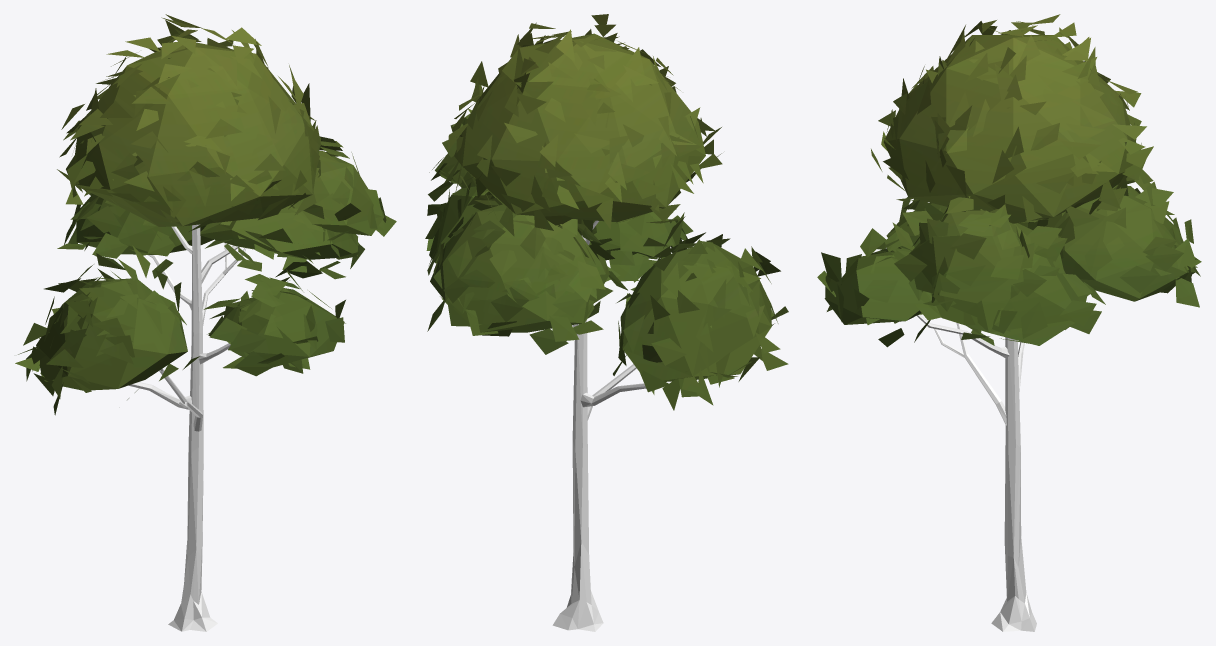
Rendered from beech-poly.glb.
3 renders of one model, left to right at view 1: azimuth 30°, elevation 25°; view 2: azimuth 150°, elevation 25°; view 3: azimuth 270°, elevation 25°, orthographic.
Parts seen in each view (by area): view 1: tree-beech-european-generic-mature-a.002; view 2: tree-beech-european-generic-mature-a.002; view 3: tree-beech-european-generic-mature-a.002.
Part boxes in pixels (x1,y1,x2,y2): tree-beech-european-generic-mature-a.002: (15,14,396,631); tree-beech-european-generic-mature-a.002: (425,14,788,631); tree-beech-european-generic-mature-a.002: (817,14,1201,631).
Bounding box in the file's own units: 4.66 × 7.8 × 4.54.
2 materials, 1 textured.
